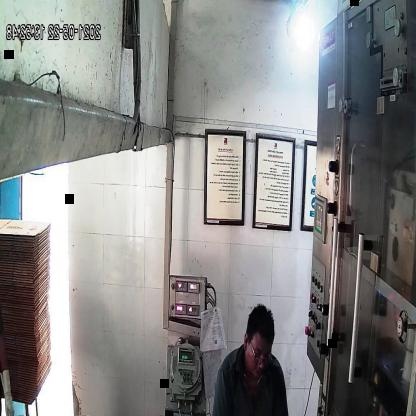goggles: (245, 342, 274, 373)
